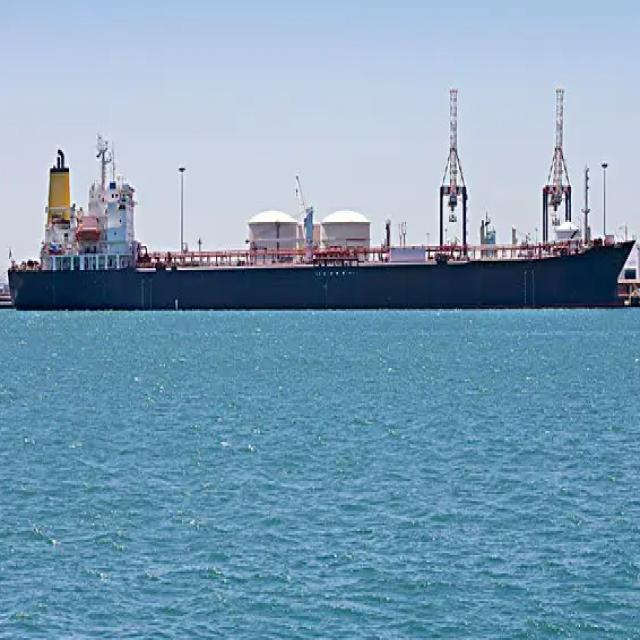cargoship: (5, 86, 625, 322)
